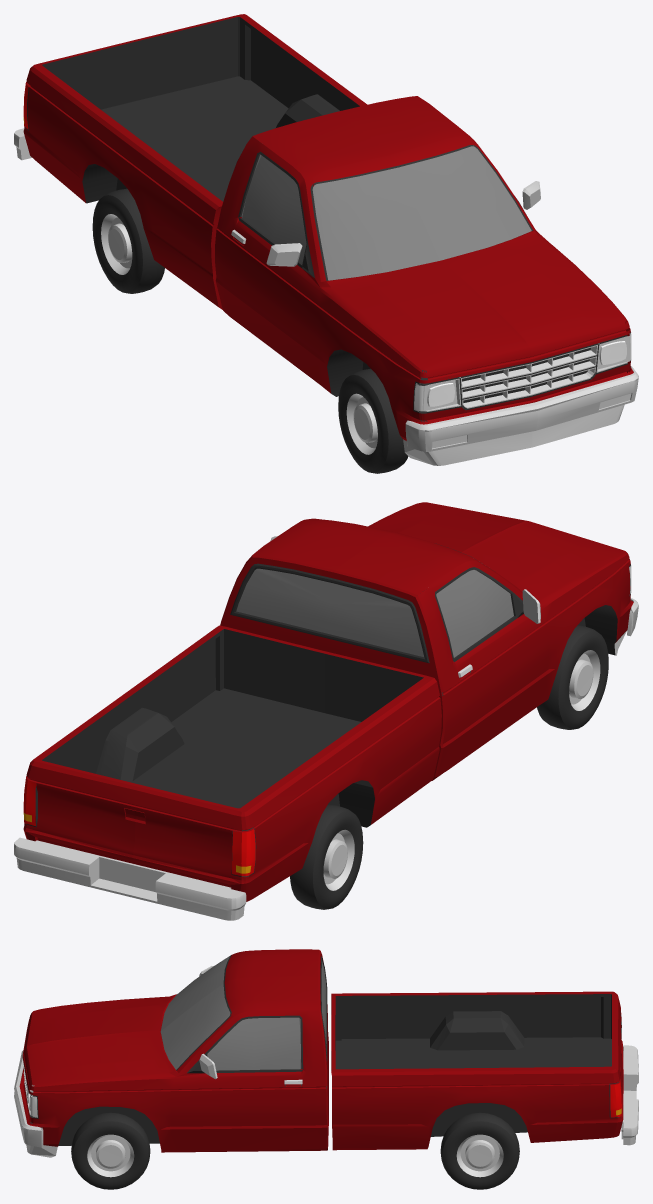
The model's file is Truck_205_1_.obj.
3 views of the same model, one above another, from view 1: azimuth 30°, elevation 25°; view 2: azimuth 150°, elevation 25°; view 3: azimuth 270°, elevation 25° (orthographic). The views are drawn at different scales.
Parts seen in each view (by area): view 1: Mesh14 Group_1_2 Group1 Model, Mesh3 Group_1_1 Group1 Model, Mesh15 Group_1_2 Group1 Model, Mesh4 Group_1_1 Group1 Model, Mesh13 Group_2_4 Group_1_2 Group1 Model, Mesh12 Group_2_3 Group_1_2 Group1 Model, Mesh19 Group_1_2 Group1 Model; view 2: Mesh14 Group_1_2 Group1 Model, Mesh4 Group_1_1 Group1 Model, Mesh15 Group_1_2 Group1 Model, Mesh3 Group_1_1 Group1 Model, Mesh12 Group_2_3 Group_1_2 Group1 Model, Mesh13 Group_2_4 Group_1_2 Group1 Model, Mesh7 Group_1_1 Group1 Model, Mesh18 Group_1_2 Group1 Model; view 3: Mesh3 Group_1_1 Group1 Model, Mesh15 Group_1_2 Group1 Model, Mesh4 Group_1_1 Group1 Model, Mesh14 Group_1_2 Group1 Model, Mesh2 Group_2_2 Group_1_1 Group1 Model, Mesh1 Group_2_1 Group_1_1 Group1 Model, Mesh18 Group_1_2 Group1 Model, Mesh7 Group_1_1 Group1 Model.
Boxes of the visible parts, x1,y1,x2,y2 form: Mesh14 Group_1_2 Group1 Model: [215, 112, 537, 465]; Mesh3 Group_1_1 Group1 Model: [336, 96, 638, 447]; Mesh15 Group_1_2 Group1 Model: [23, 39, 233, 309]; Mesh4 Group_1_1 Group1 Model: [138, 14, 367, 169]; Mesh13 Group_2_4 Group_1_2 Group1 Model: [338, 368, 408, 473]; Mesh12 Group_2_3 Group_1_2 Group1 Model: [92, 188, 164, 293]; Mesh19 Group_1_2 Group1 Model: [266, 243, 302, 266]; Mesh14 Group_1_2 Group1 Model: [329, 521, 638, 780]; Mesh4 Group_1_1 Group1 Model: [23, 625, 326, 864]; Mesh15 Group_1_2 Group1 Model: [132, 651, 441, 901]; Mesh3 Group_1_1 Group1 Model: [220, 502, 528, 659]; Mesh12 Group_2_3 Group_1_2 Group1 Model: [290, 804, 363, 909]; Mesh13 Group_2_4 Group_1_2 Group1 Model: [537, 625, 608, 729]; Mesh7 Group_1_1 Group1 Model: [14, 837, 133, 895]; Mesh18 Group_1_2 Group1 Model: [124, 864, 246, 920]; Mesh3 Group_1_1 Group1 Model: [14, 976, 328, 1157]; Mesh15 Group_1_2 Group1 Model: [331, 991, 623, 1083]; Mesh4 Group_1_1 Group1 Model: [331, 1030, 623, 1150]; Mesh14 Group_1_2 Group1 Model: [14, 949, 328, 1117]; Mesh2 Group_2_2 Group_1_1 Group1 Model: [71, 1112, 150, 1189]; Mesh1 Group_2_1 Group_1_1 Group1 Model: [440, 1112, 519, 1189]; Mesh18 Group_1_2 Group1 Model: [623, 1045, 638, 1099]; Mesh7 Group_1_1 Group1 Model: [621, 1094, 638, 1145].
Size of the model in its own units: 87.3 by 70.81 by 229.
